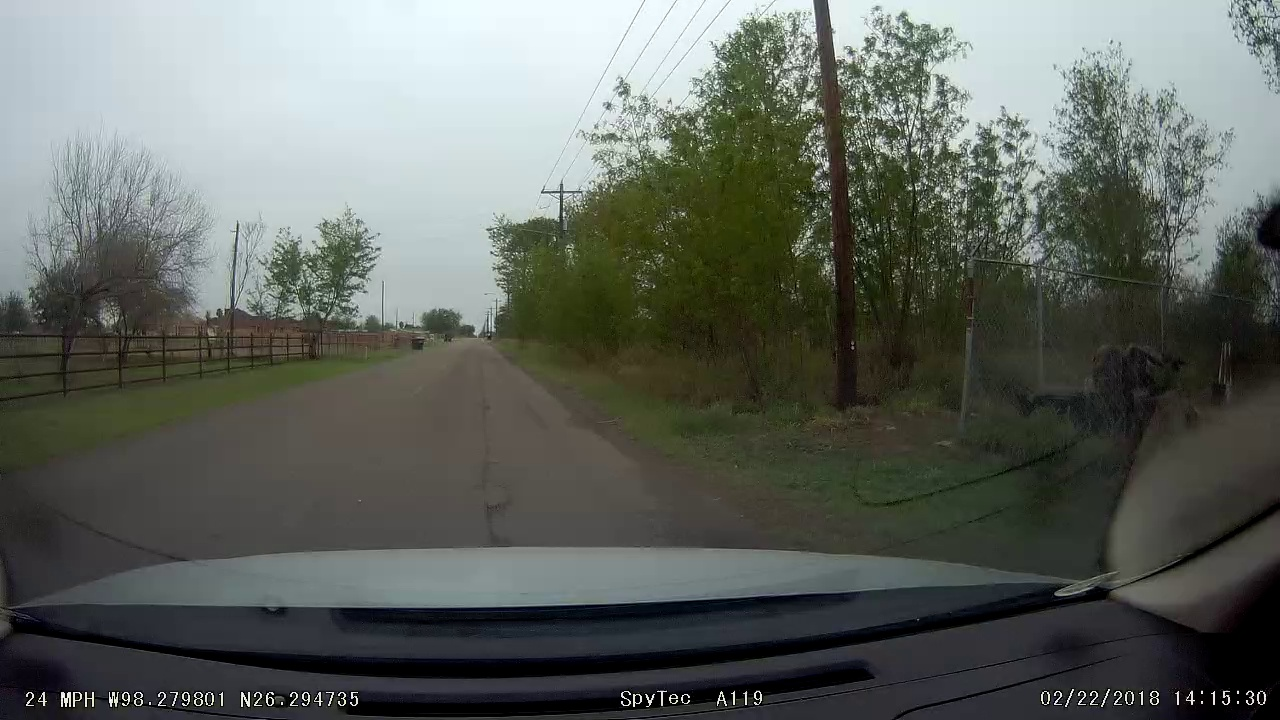crack: (471, 411, 506, 540)
